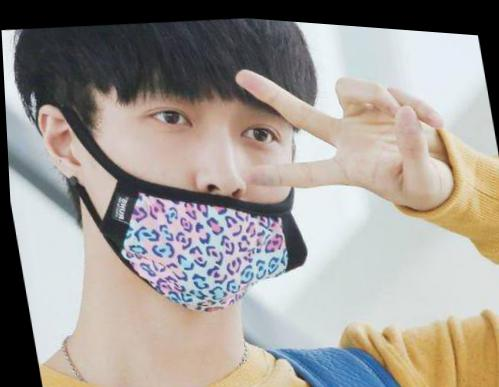WRONG: (52, 46, 325, 323)
